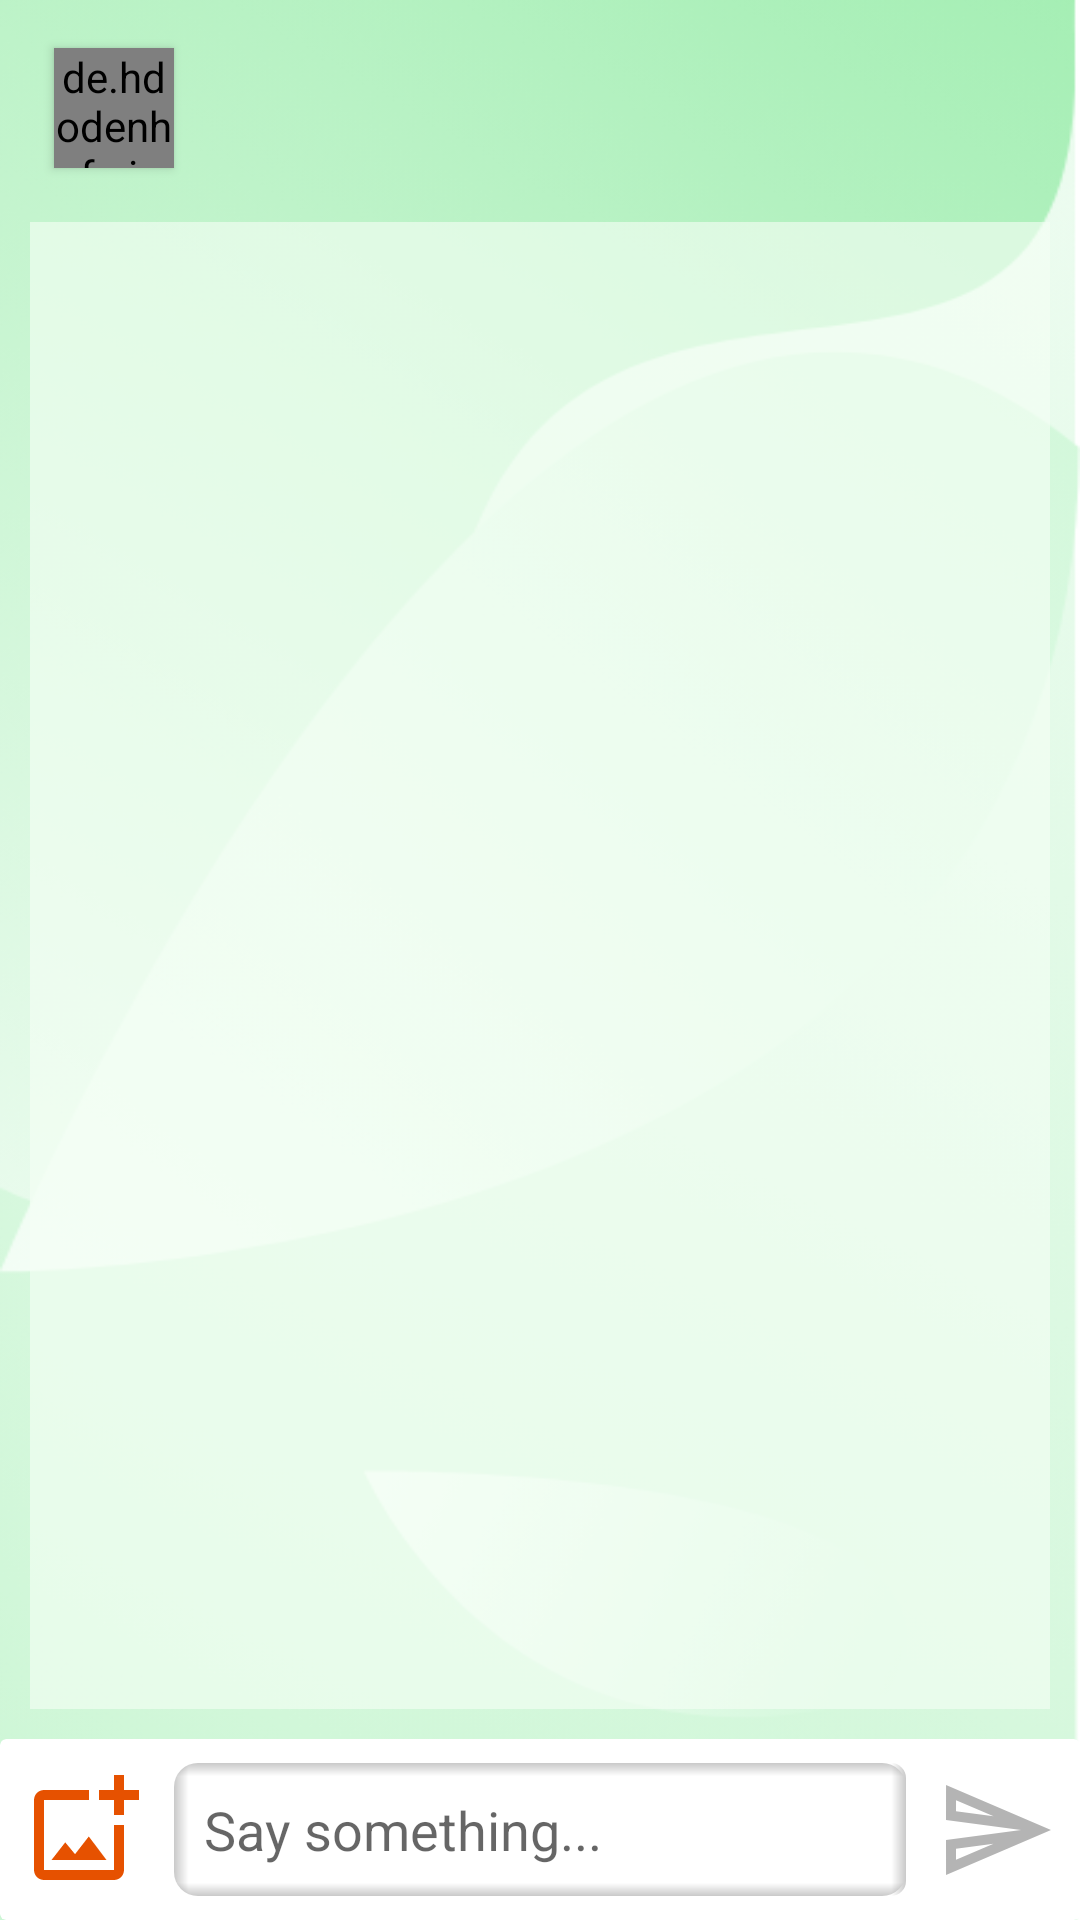

Named icons in this screenshot (1080×1920) and their centers, (x=x, y=y):
add photo alternate: (x=86, y=1827)
send: (x=998, y=1830)
